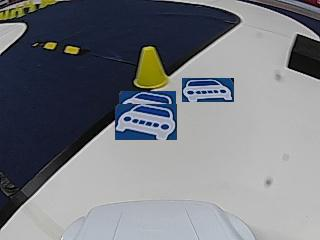block: (288, 34, 319, 79)
cone: (135, 47, 169, 88)
